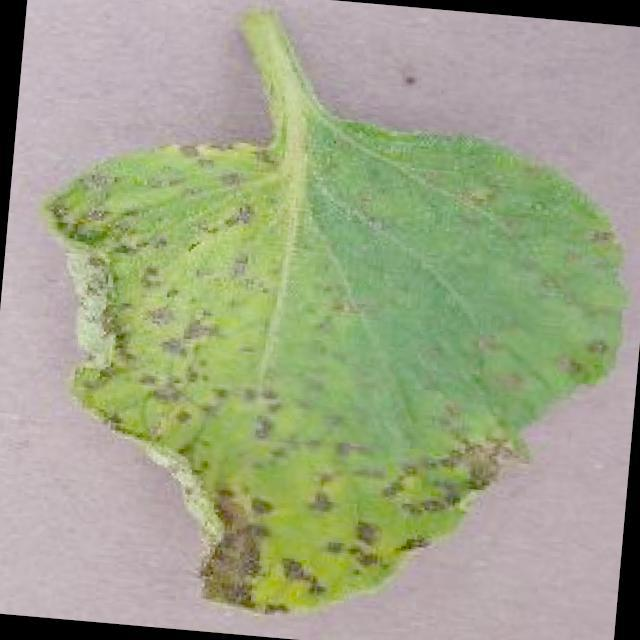Tomato Septoria spot leaf: (11, 96, 633, 640)
